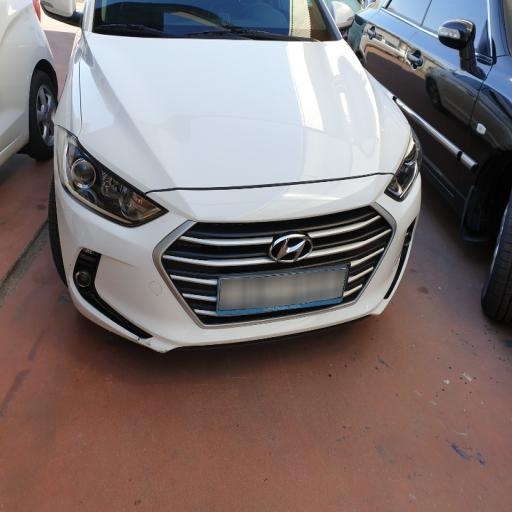scratch: (64, 84, 385, 240)
